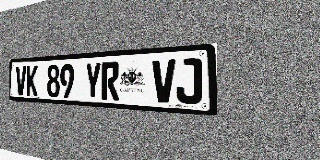8: (47, 64, 60, 97)
9: (60, 64, 74, 98)
J: (176, 58, 202, 105)
K: (26, 66, 38, 96)
R: (101, 62, 119, 100)
V: (152, 59, 175, 103), (16, 66, 26, 96)
Y: (85, 62, 101, 100)
